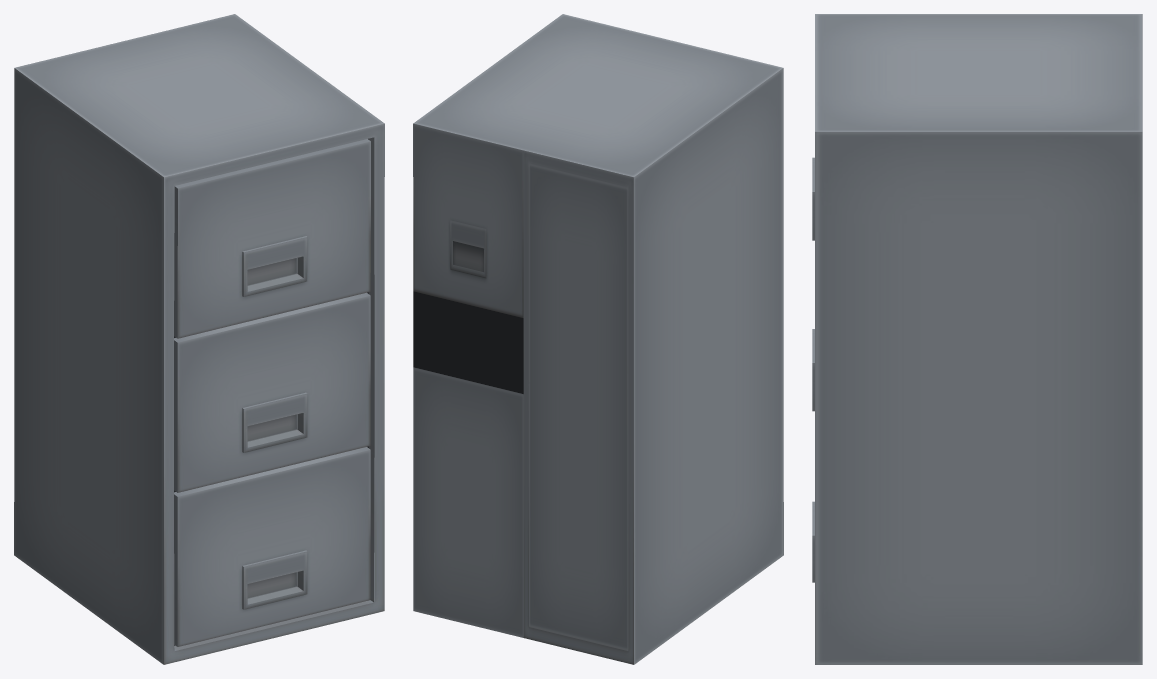
Rendered from Mob-tiroir-bureau_01.FBX.
The picture shows the model from 3 angles, left to right: view 1: azimuth 30°, elevation 25°; view 2: azimuth 150°, elevation 25°; view 3: azimuth 270°, elevation 25°; orthographic projection. The views are drawn at different scales.
Parts seen in each view (by area): view 1: Mob-tiroir-bureau_01; view 2: Mob-tiroir-bureau_01; view 3: Mob-tiroir-bureau_01.
Boxes of the visible parts, bbox=[...] form: Mob-tiroir-bureau_01: bbox=[14, 14, 384, 664]; Mob-tiroir-bureau_01: bbox=[413, 14, 783, 664]; Mob-tiroir-bureau_01: bbox=[812, 14, 1142, 664].
Size of the model in its own units: 46.18 by 54.65 by 97.34.
1 material, 1 textured.
